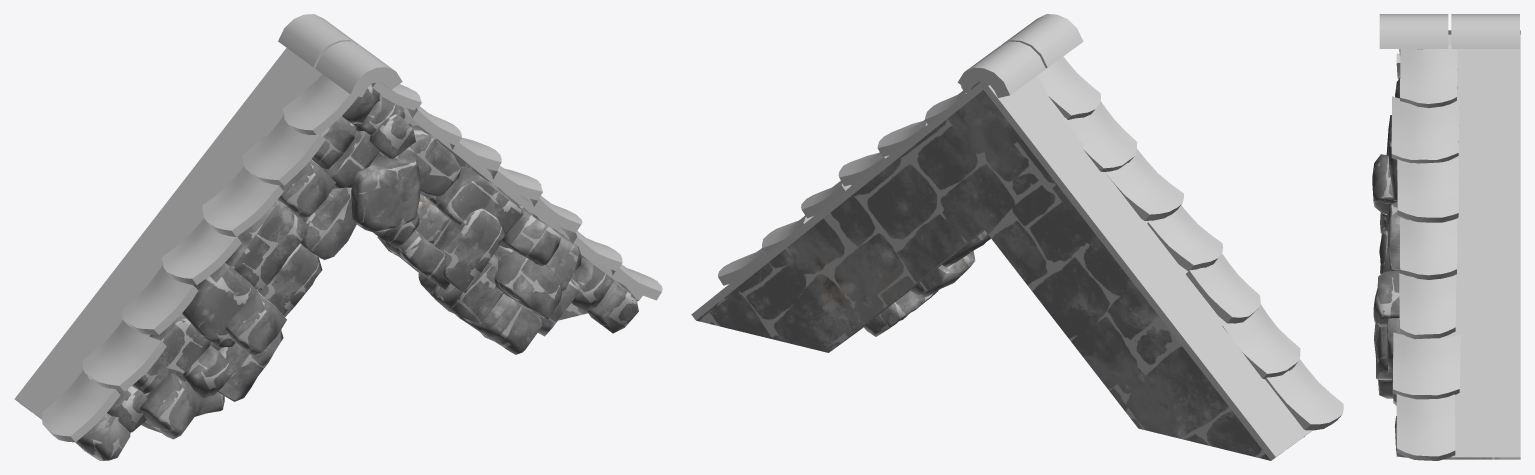
File: Roof_Top_Left.fbx
3 renders of one model, left to right at view 1: azimuth 30°, elevation 25°; view 2: azimuth 150°, elevation 25°; view 3: azimuth 270°, elevation 25°, orthographic. The views are drawn at different scales.
Visible parts, largest first — view 1: rock_1.004, Plane.045, Plane.046; view 2: Plane.046, Plane.045, rock_1.004; view 3: Plane.045, rock_1.004, Plane.046.
Boxes of the visible parts, bbox=[...] form: rock_1.004: bbox=[75, 85, 638, 460]; Plane.045: bbox=[14, 14, 662, 442]; Plane.046: bbox=[19, 112, 638, 419]; Plane.046: bbox=[696, 90, 1312, 460]; Plane.045: bbox=[691, 14, 1343, 460]; rock_1.004: bbox=[864, 162, 1304, 436]; Plane.045: bbox=[1379, 14, 1520, 460]; rock_1.004: bbox=[1372, 49, 1422, 457]; Plane.046: bbox=[1444, 457, 1520, 459].
Size of the model in its own units: 6.94 by 3.71 by 1.52.
